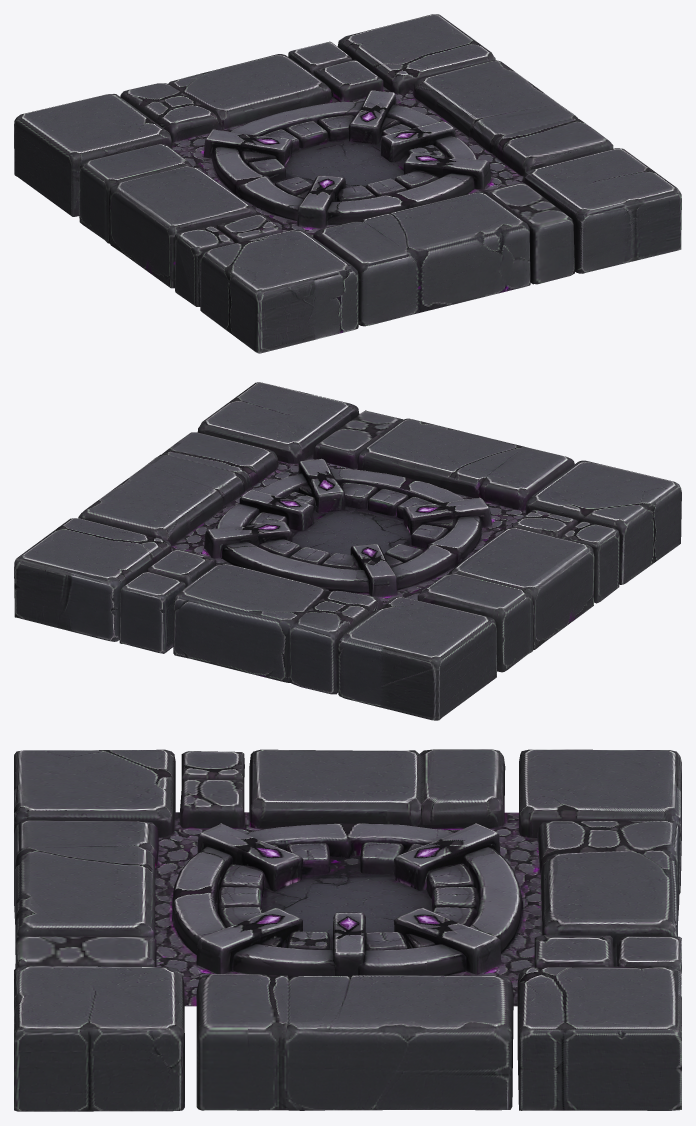
Rendered from void_broken.glb.
3 renders of one model, top to bottom at view 1: azimuth 30°, elevation 25°; view 2: azimuth 150°, elevation 25°; view 3: azimuth 270°, elevation 25°, orthographic. The views are drawn at different scales.
Bounding box in the file's own units: 1 × 0.144 × 1.
Materials: 1 (1 with a texture image).
